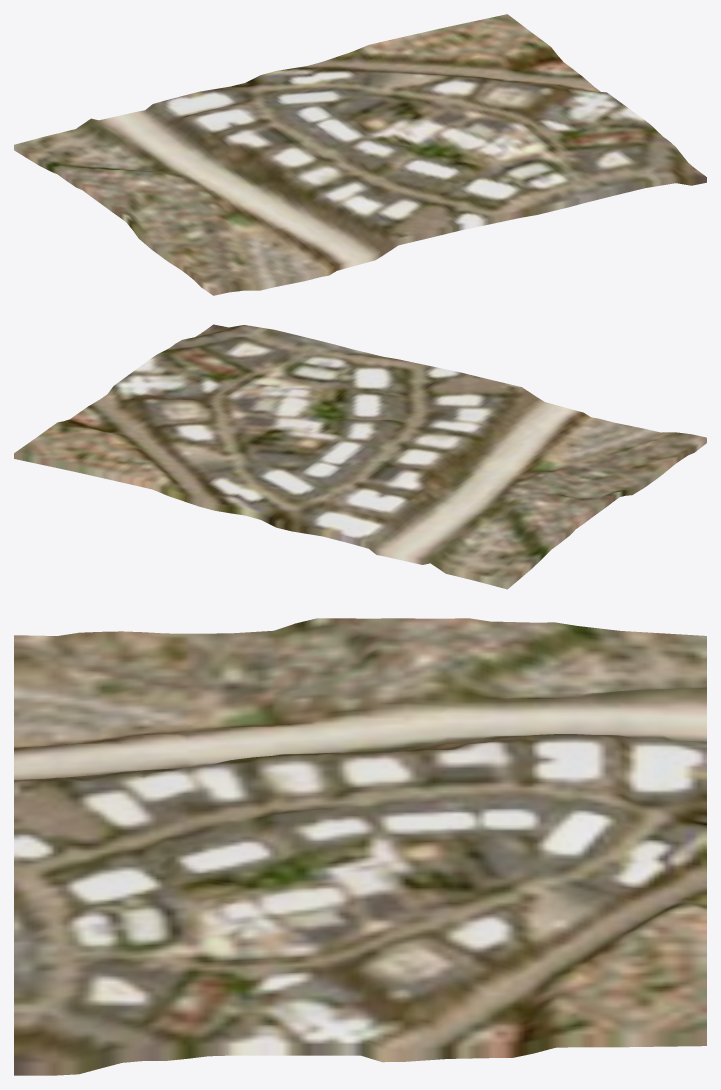
File: terrain_r7_c7_lod2.glb
3 renders of one model, top to bottom at view 1: azimuth 30°, elevation 25°; view 2: azimuth 150°, elevation 25°; view 3: azimuth 270°, elevation 25°, orthographic. The views are drawn at different scales.
Visible parts, largest first — view 1: terrain_r7_c7_lod2; view 2: terrain_r7_c7_lod2; view 3: terrain_r7_c7_lod2.
Boxes of the visible parts, bbox=[...] form: terrain_r7_c7_lod2: bbox=[14, 14, 706, 295]; terrain_r7_c7_lod2: bbox=[14, 324, 706, 589]; terrain_r7_c7_lod2: bbox=[14, 618, 706, 1075].
Size of the model in its own units: 1125 by 58.09 by 787.
Materials: 1 (1 with a texture image).
